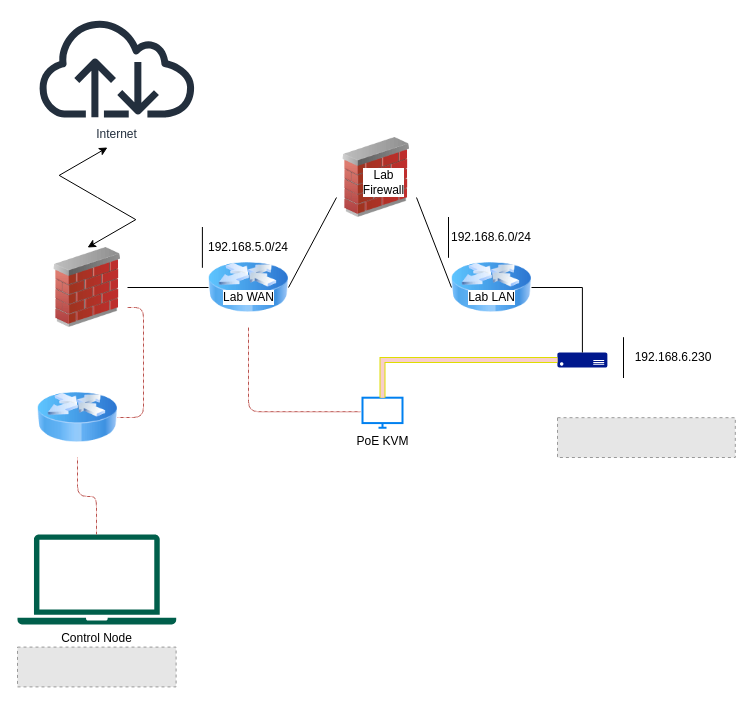
Image size: 753x704. Some labels were removed from this diagram. Grey dashed boxes stand in for pictures. Each missing label, with the centre of its shape:
gismo: (x=582, y=359)
LAN: (x=77, y=417)
Site Firewall: (x=87, y=287)
